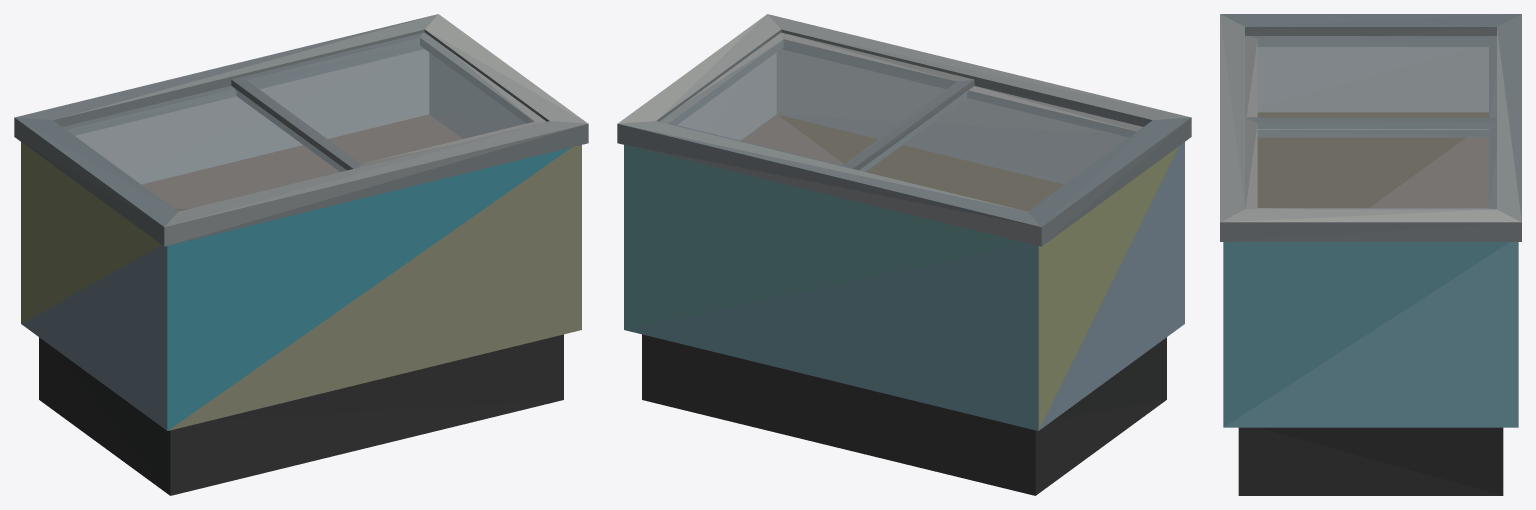
File: gs_drinks_fridge.glb
The picture shows the model from 3 angles, left to right: view 1: azimuth 30°, elevation 25°; view 2: azimuth 150°, elevation 25°; view 3: azimuth 270°, elevation 25°; orthographic projection.
Parts seen in each view (by area): view 1: Fridge, Fridge_D_01, Fridge_D; view 2: Fridge, Fridge_D_01, Fridge_D; view 3: Fridge, Fridge_D_01, Fridge_D.
Part boxes in pixels (<box>): Fridge: <box>14,14,588,495</box>; Fridge_D_01: <box>231,32,546,170</box>; Fridge_D: <box>63,86,346,211</box>; Fridge: <box>617,14,1191,495</box>; Fridge_D_01: <box>659,32,974,170</box>; Fridge_D: <box>859,86,1142,211</box>; Fridge: <box>1220,14,1521,495</box>; Fridge_D_01: <box>1245,117,1496,209</box>; Fridge_D: <box>1245,36,1496,137</box>.
Bounding box in the file's own units: 1.69 × 1.06 × 1.03.
